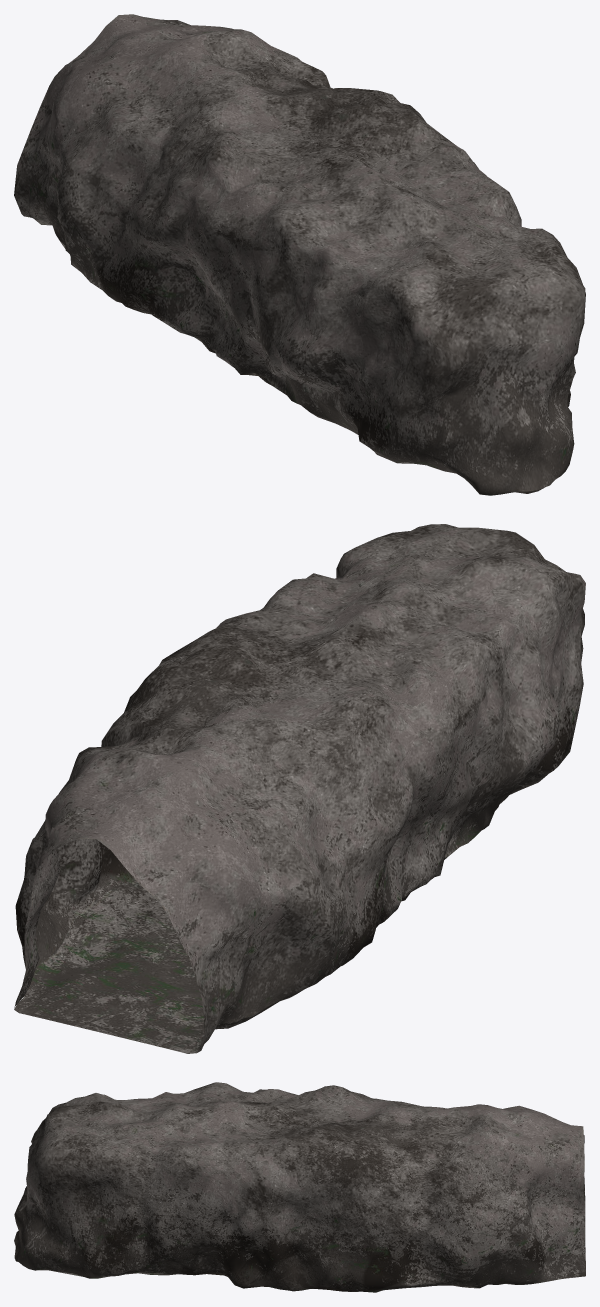
Rendered from wwwunderkammer_AhmedAFinal_cave.glb.
3 views of the same model, one above another, from view 1: azimuth 30°, elevation 25°; view 2: azimuth 150°, elevation 25°; view 3: azimuth 270°, elevation 25° (orthographic). The views are drawn at different scales.
Parts seen in each view (by area): view 1: Cave; view 2: Cave; view 3: Cave.
Part boxes in pixels (<box>): Cave: <box>14,14,585,495</box>; Cave: <box>14,524,585,1053</box>; Cave: <box>14,1082,585,1292</box>.
Size of the model in its own units: 4.63 by 3.47 by 11.76.
Materials: 1 (1 with a texture image).
